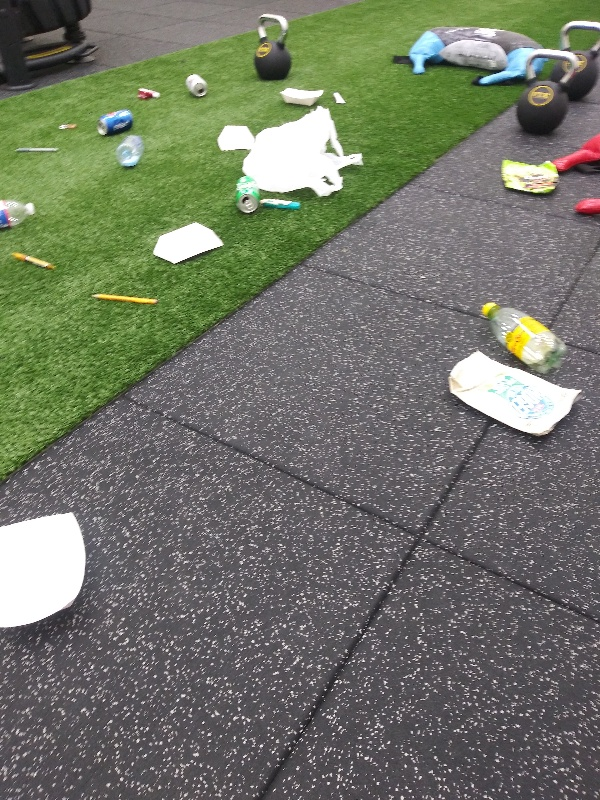bag: (445, 345, 586, 441), (496, 151, 567, 201)
bottle: (473, 292, 573, 379), (111, 130, 147, 171), (1, 195, 38, 228)
can: (95, 101, 140, 135), (227, 173, 261, 216), (181, 70, 210, 101)
plate: (1, 509, 91, 638), (149, 218, 229, 267), (211, 121, 257, 156), (275, 82, 329, 108)
